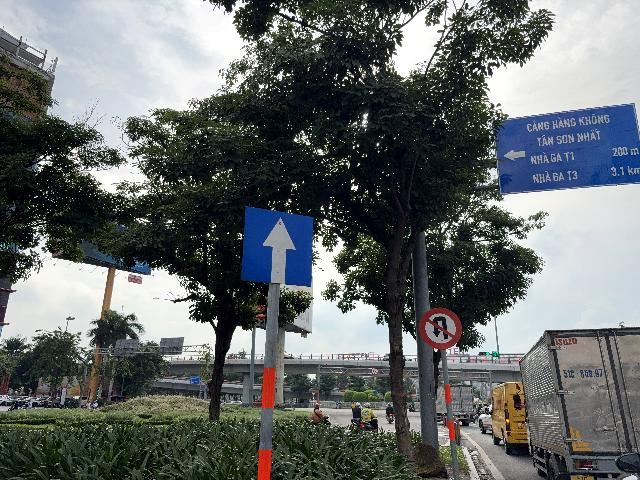cam-quay-dau-xe: (419, 307, 462, 349)
duong-mot-chieu: (240, 206, 313, 287)
